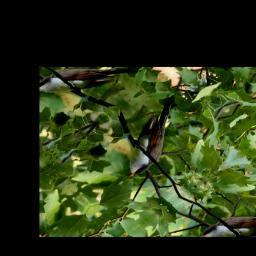Cuckoo: (99, 97, 210, 182)
